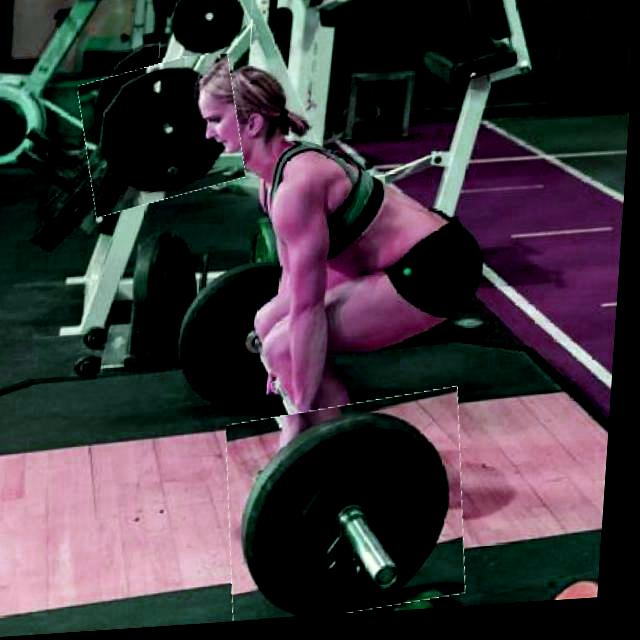barbell: (227, 399, 480, 627), (79, 55, 250, 213), (160, 1, 256, 60)
